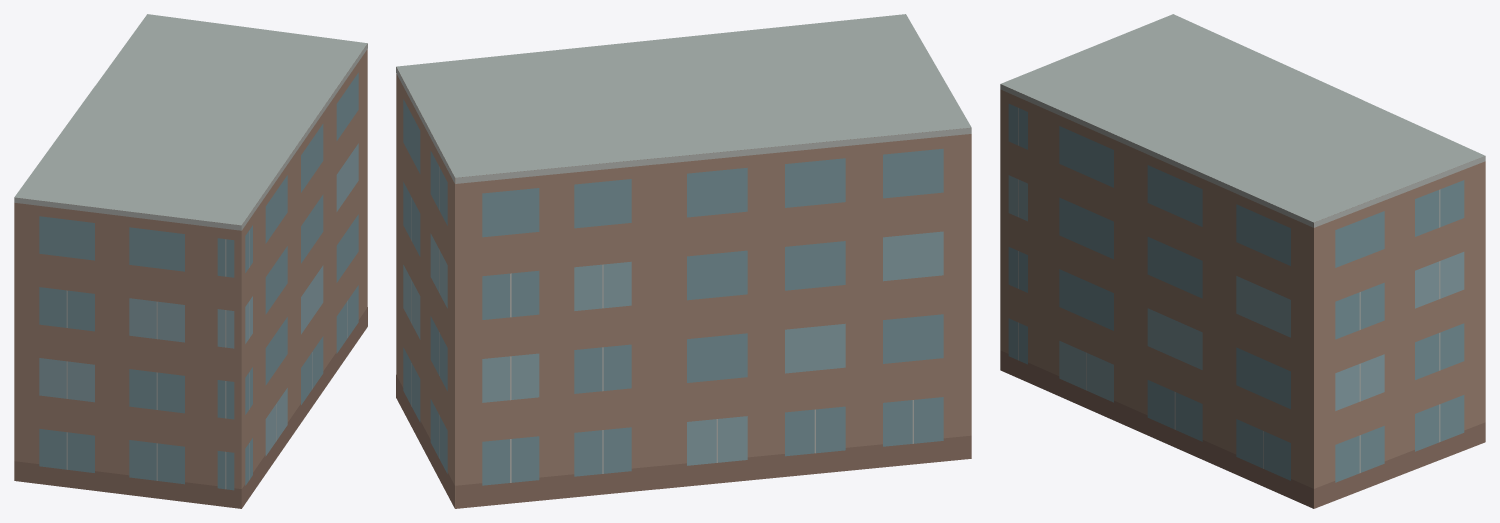
Rendered from survey-upis-33004830.glb.
The picture shows the model from 3 angles, left to right: view 1: azimuth 30°, elevation 25°; view 2: azimuth 150°, elevation 25°; view 3: azimuth 270°, elevation 25°; orthographic projection. The views are drawn at different scales.
Visible parts, largest first — view 1: survey-upis-33004830.tmp; view 2: survey-upis-33004830.tmp; view 3: survey-upis-33004830.tmp.
Boxes of the visible parts, x1=… form: survey-upis-33004830.tmp: x1=14, y1=14, x2=367, y2=508; survey-upis-33004830.tmp: x1=396, y1=14, x2=971, y2=508; survey-upis-33004830.tmp: x1=1000, y1=14, x2=1485, y2=508.
Size of the model in its own units: 20.32 by 13 by 19.97.
